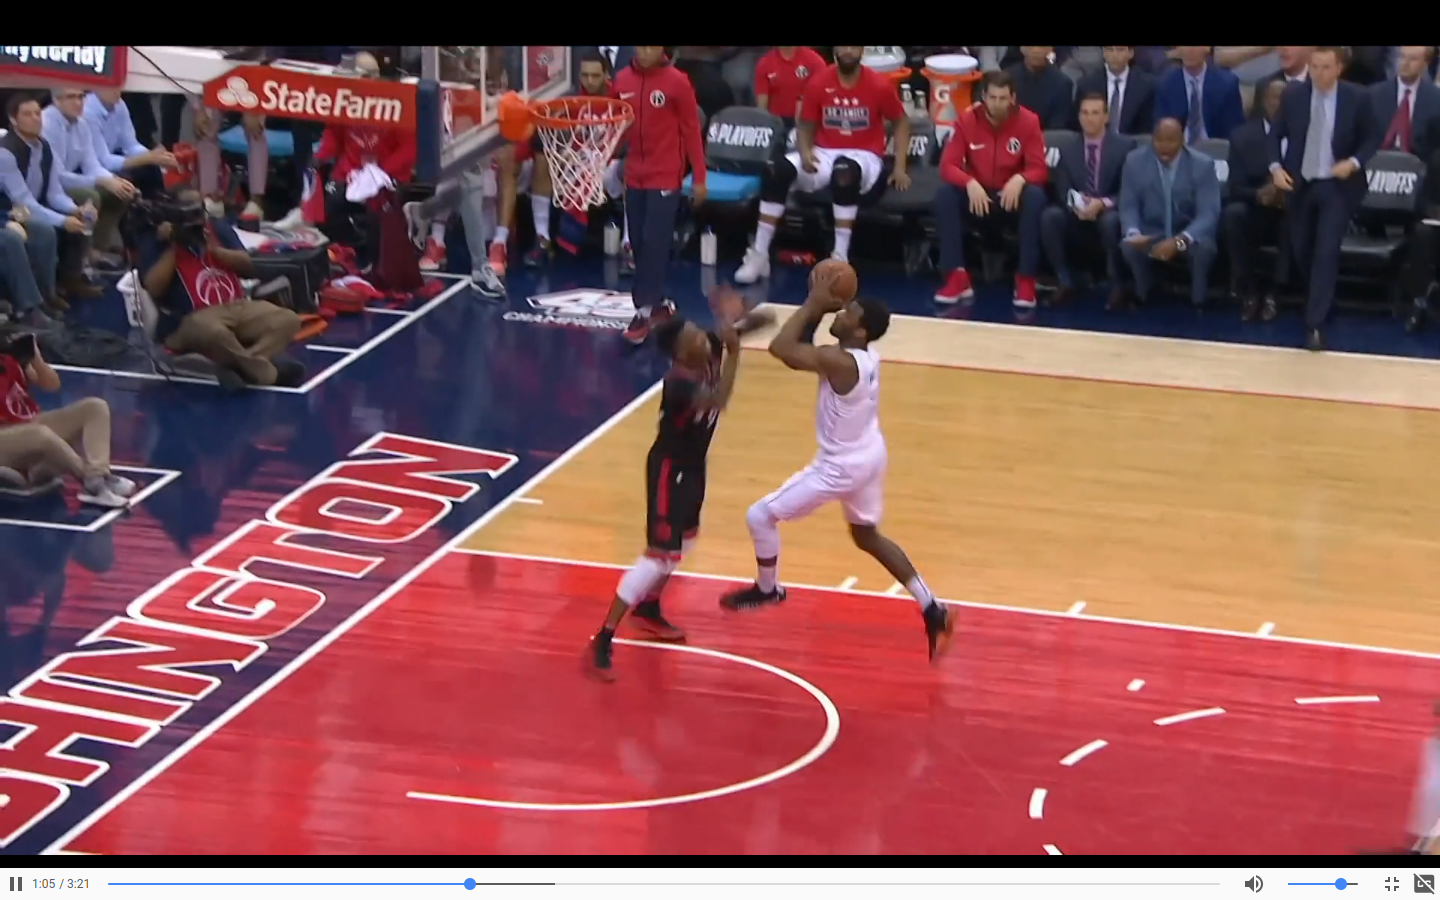basketball: (802, 252, 862, 316)
basketball player: (718, 286, 961, 666), (588, 294, 747, 686)
